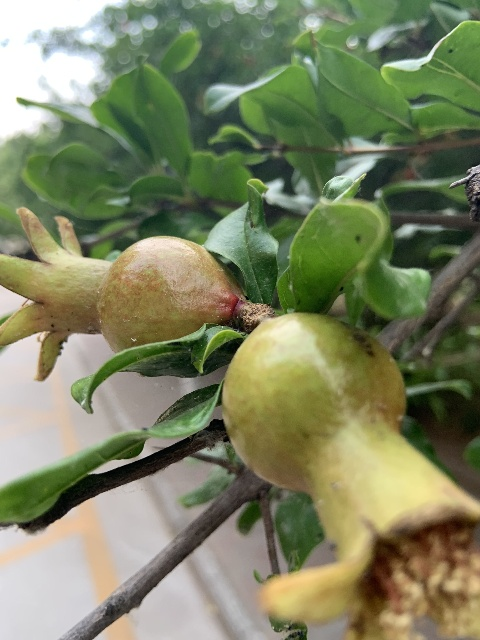early-fruit: (1, 208, 241, 382)
mid-growth: (221, 311, 478, 637)
